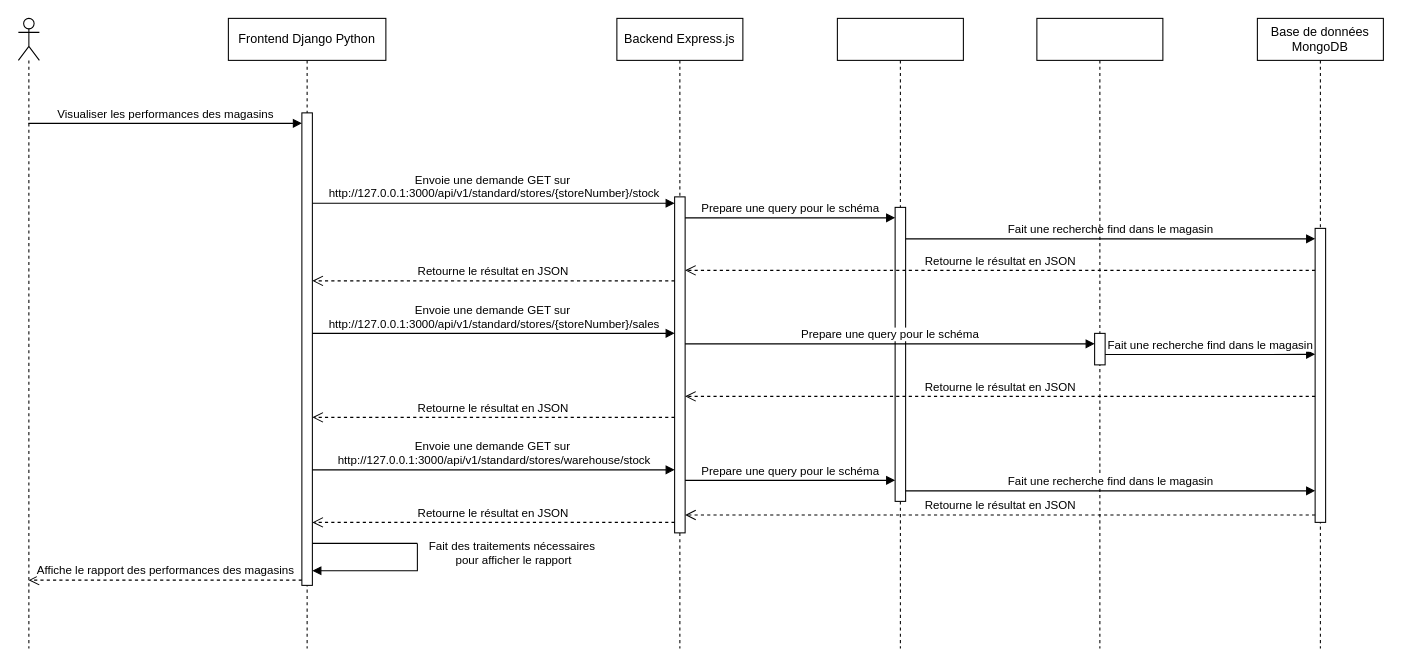
This 1402x667 diagram has some shape labels left out. The centre of each missing label's shape, as x and y in pixels:
"StoreInventory" goes at point 899,332.
"StoreSale" goes at point 1099,332.
